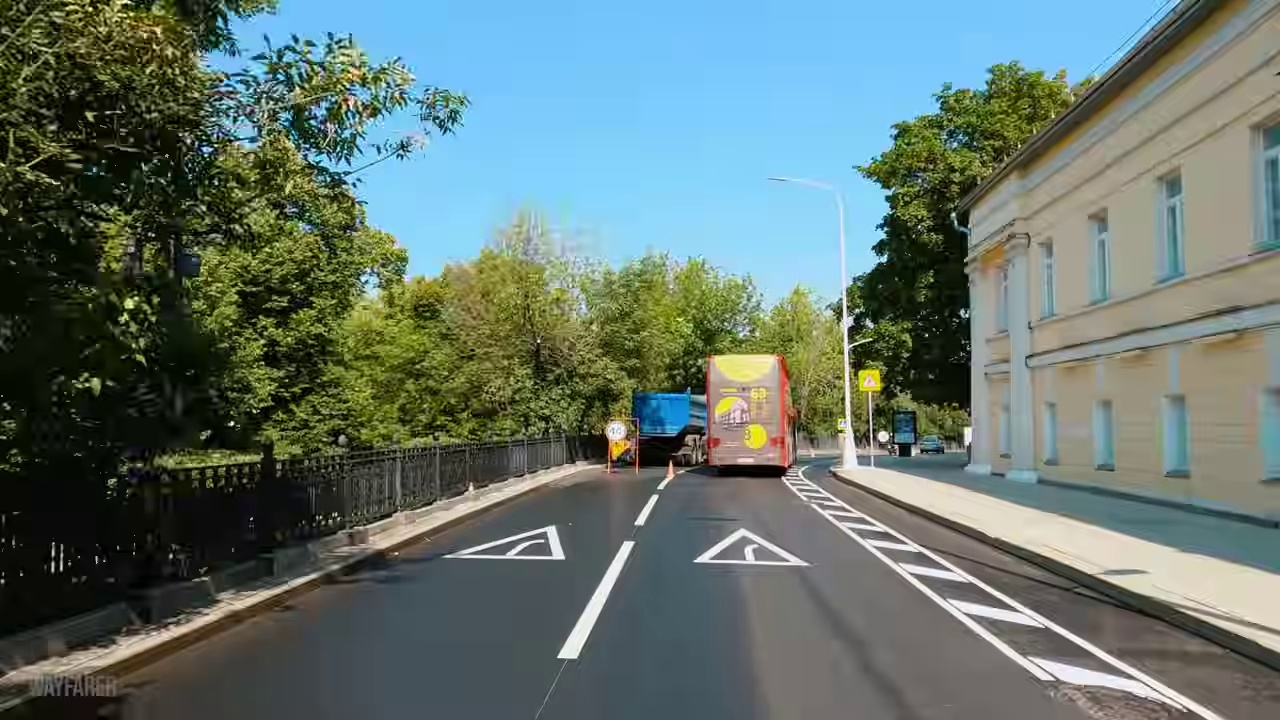acesa: (859, 367, 881, 391)
apagada: (765, 170, 798, 194)
